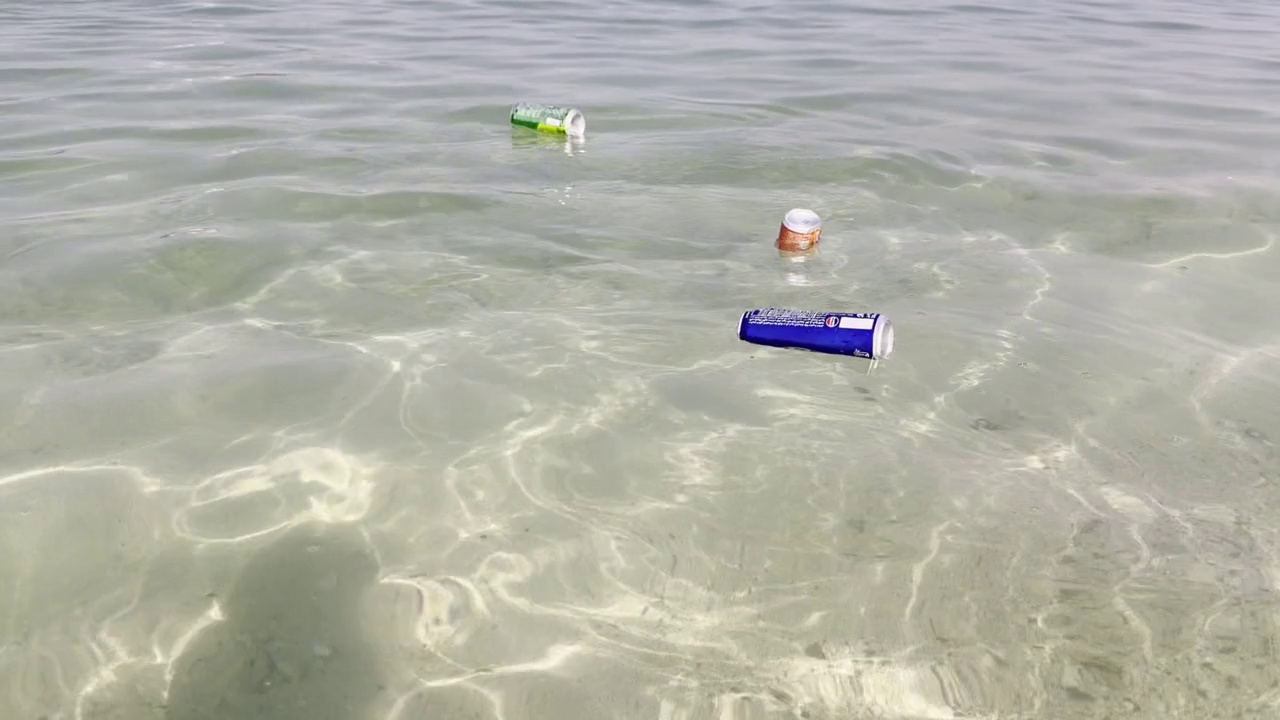debris: (727, 301, 905, 369), (504, 94, 591, 147), (772, 199, 829, 260)
